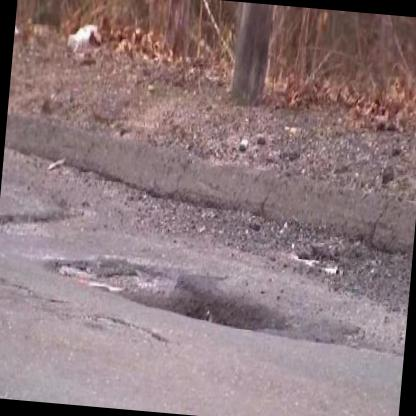pothole: (43, 247, 291, 337)
